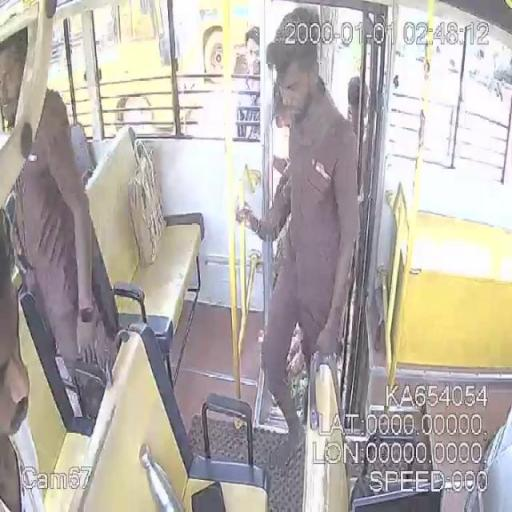persona: (234, 6, 362, 468), (0, 29, 127, 405), (0, 208, 42, 512)
